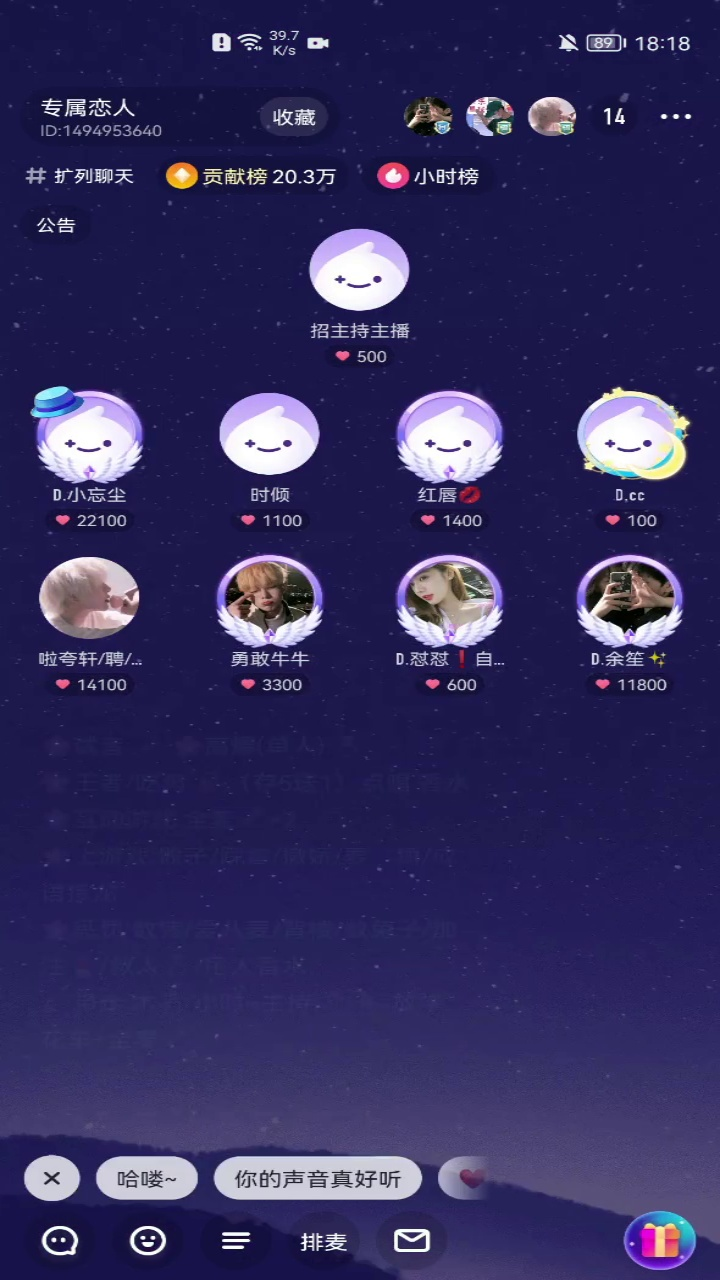avatar: (23, 381, 159, 486), (388, 385, 519, 486), (572, 382, 695, 484), (296, 224, 420, 314), (208, 385, 325, 480)
